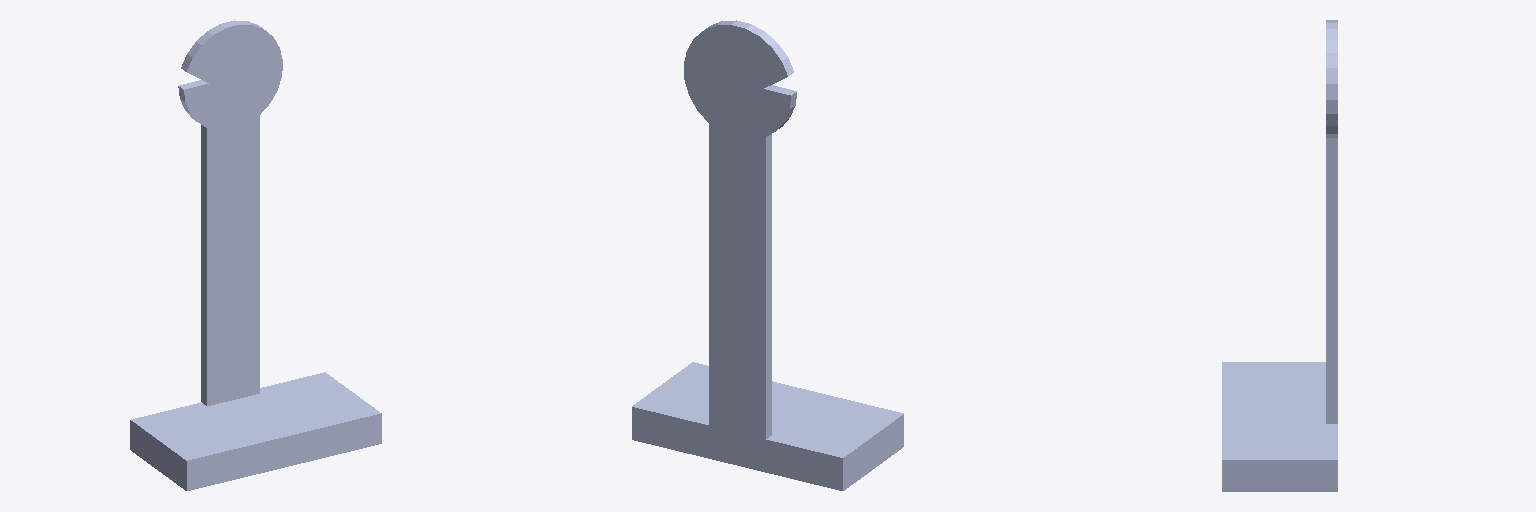
The robot description file, URDF, robot "stone":
<?xml version="1.0" encoding="utf-8"?>
<!-- This URDF was automatically created by SolidWorks to URDF Exporter! Originally created by [author] ([email redacted]) 
     Commit Version: 1.6.0-4-g7f85cfe  Build Version: 1.6.7995.38578
     For more information, please see http://wiki.ros.org/sw_urdf_exporter -->
<robot
  name="stone">
  <link
    name="base_link">
    <inertial>
      <origin
        xyz="0.000112974004017283 -0.319645951504904 0.0730552338126323"
        rpy="0 0 0" />
      <mass
        value="0.824781280481655" />
      <inertia
        ixx="0.0109201620292687"
        ixy="-3.05029810846776E-06"
        ixz="-2.5975085900891E-05"
        iyy="0.0121722162539867"
        iyz="-0.00156749131294107"
        izz="0.00291805919812797" />
    </inertial>
    <visual>
      <origin
        xyz="0 0 0"
        rpy="0 0 0" />
      <geometry>
        <mesh
          filename="package://stone/meshes/base_link.STL" />
      </geometry>
      <material
        name="">
        <color
          rgba="0.792156862745098 0.819607843137255 0.933333333333333 1" />
      </material>
    </visual>
    <collision>
      <origin
        xyz="0 0 0"
        rpy="0 0 0" />
      <geometry>
        <mesh
          filename="package://stone/meshes/base_link.STL" />
      </geometry>
    </collision>
  </link>
</robot>

--- Facts derived from the render (not from the file) ---
Views: 3 orthographic renders of the robot side by side, from view 1: azimuth 30°, elevation 25°; view 2: azimuth 150°, elevation 25°; view 3: azimuth 270°, elevation 25°.
Robot: stone — 1 links, 0 joints (none); root link base_link; default pose: every joint at zero.
Links seen in each view (by area): view 1: base_link; view 2: base_link; view 3: base_link.
Boxes of the visible links, <box> form: base_link: <box>130,20,381,490</box>; base_link: <box>632,20,903,490</box>; base_link: <box>1222,20,1337,491</box>.
Bounding box of the posed robot: 0.2 × 0.1 × 0.3966 m (x, y, z).
1 mesh visuals loaded from 1 distinct referenced files (1 binary STL).